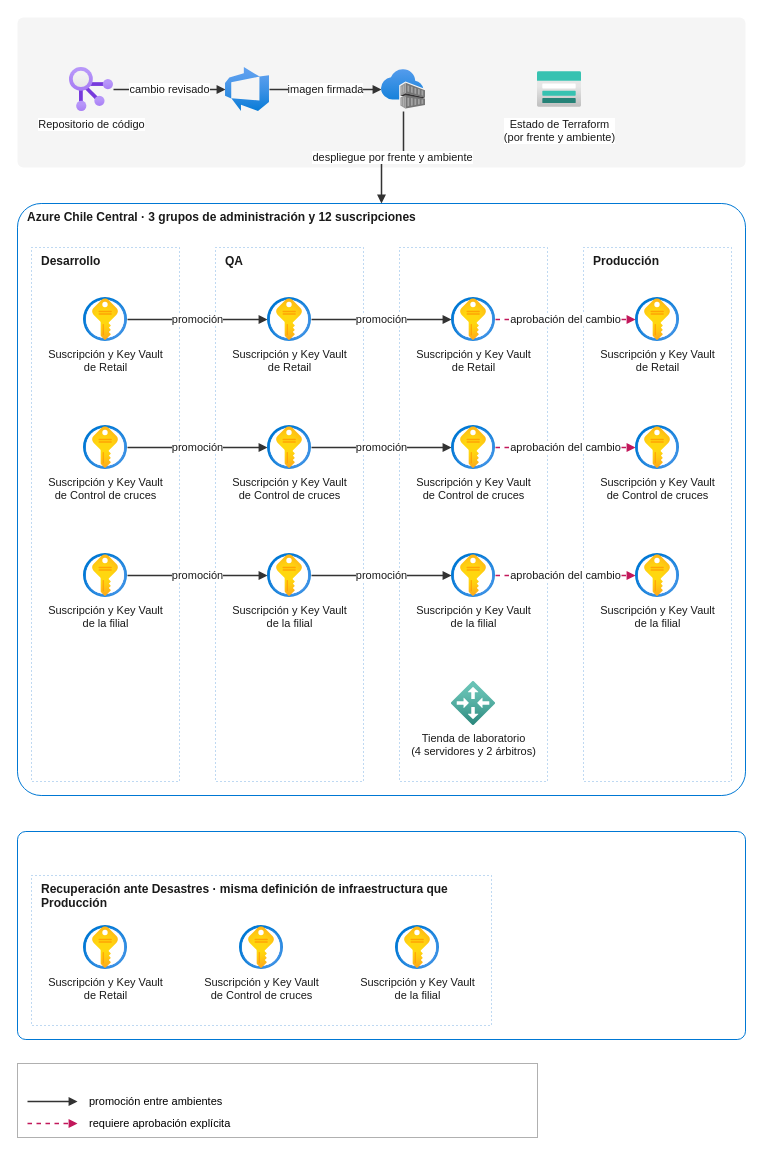
The diagram is 763 pixels wide and 1155 high, and some of its shapes have lost their labels. The box of each missing label's shape, as (x1, y1, x2, y2) in pixels:
Azure Brazil South · 3 suscripciones: (16, 830, 746, 1040)
Azure Pipelines (agentes en conjunto de escalado): (225, 67, 269, 111)
Container Registry Premium (uno por frente): (381, 67, 425, 111)
Entrega: (17, 17, 745, 167)
Leyenda: (16, 1062, 538, 1138)
Preproducción: (398, 246, 548, 782)
